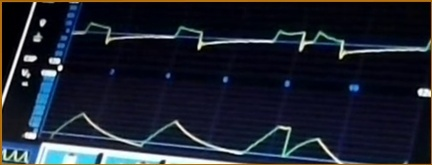Double_Triggering Flow: (78, 10, 421, 66)
Double_Triggering Volume: (51, 96, 356, 165)
